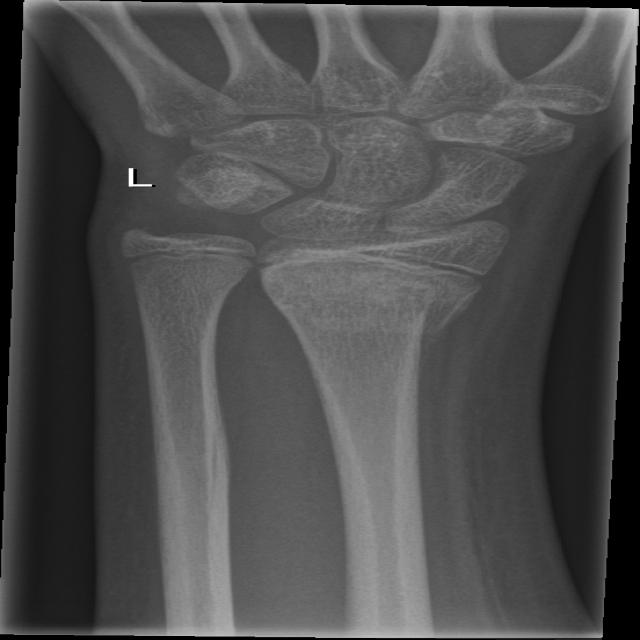radius fracture: (256, 266, 520, 396)
